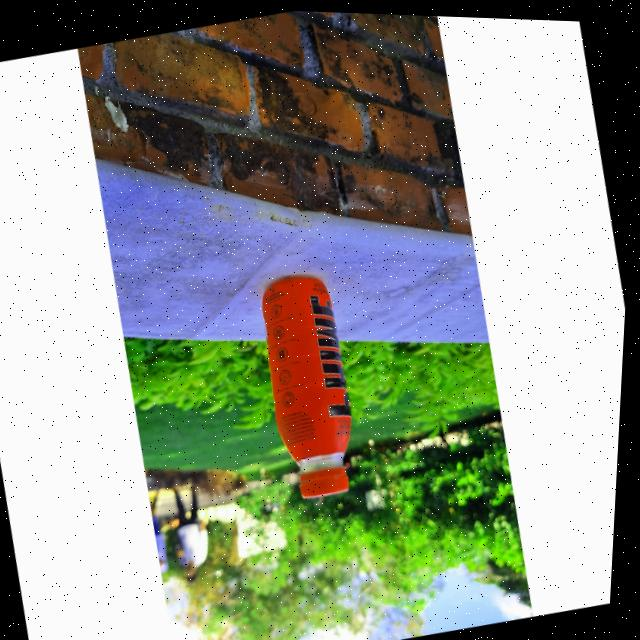Prime - Shitass: (248, 267, 378, 503)
